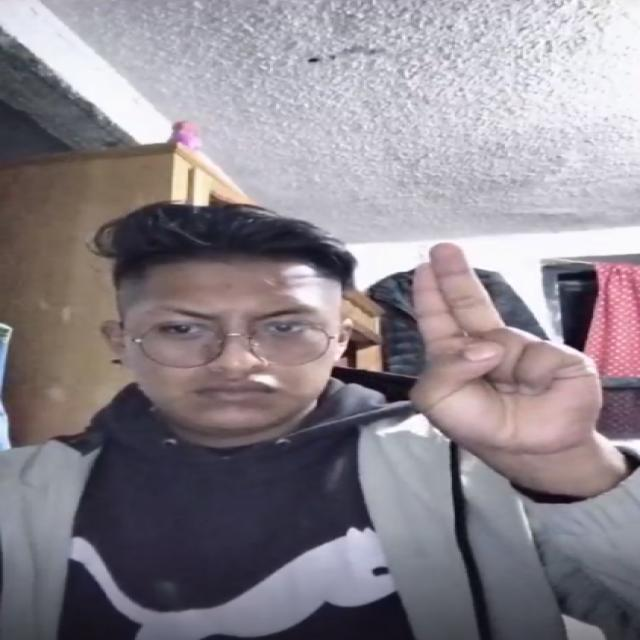U: (379, 234, 622, 466)
